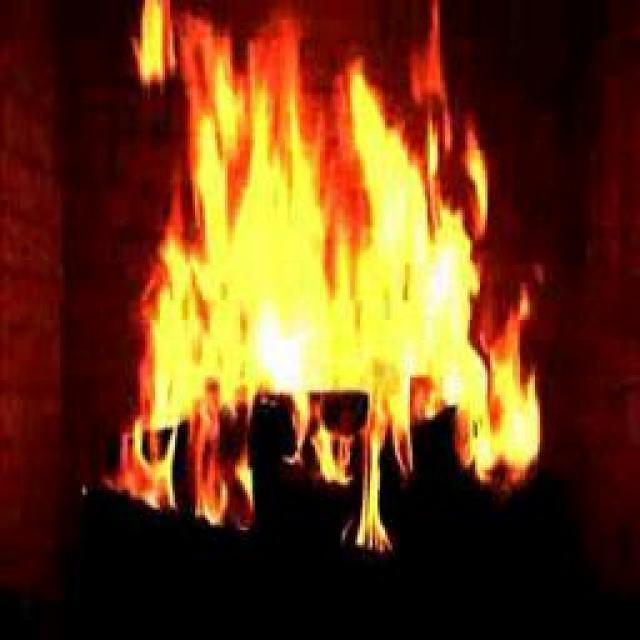Fire: (139, 51, 526, 462)
